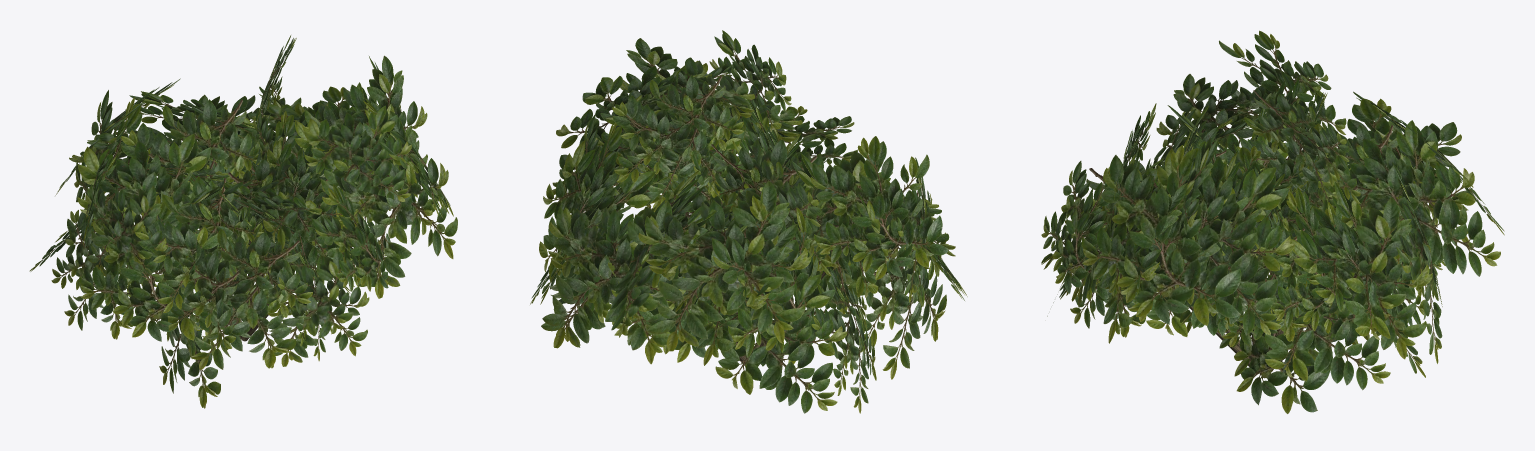
The model's file is shrub_01.glb.
3 renders of one model, left to right at view 1: azimuth 30°, elevation 25°; view 2: azimuth 150°, elevation 25°; view 3: azimuth 270°, elevation 25°, orthographic. The views are drawn at different scales.
Parts seen in each view (by area): view 1: shrub_01; view 2: shrub_01; view 3: shrub_01.
Boxes of the visible parts, x1,y1,x2,y2 form: shrub_01: (29,35,457,408); shrub_01: (530,30,967,413); shrub_01: (1041,30,1504,413).
Bounding box in the file's own units: 2.45 × 1.72 × 2.48.
2 materials, 2 textured.
